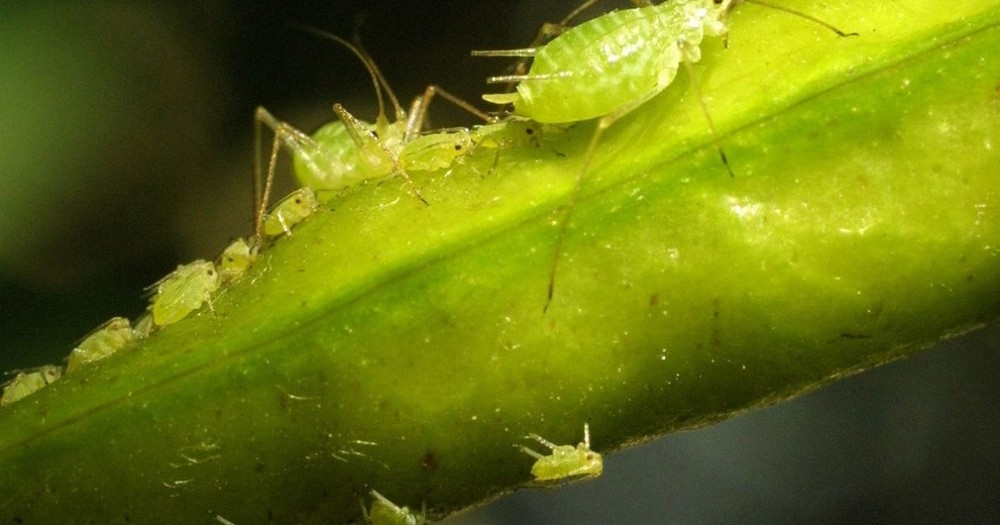Pulgon: (470, 6, 832, 197), (244, 67, 438, 220), (499, 412, 623, 498), (144, 256, 236, 319), (57, 309, 156, 367), (401, 113, 493, 175), (1, 353, 91, 414), (254, 186, 329, 241), (211, 231, 279, 288)
